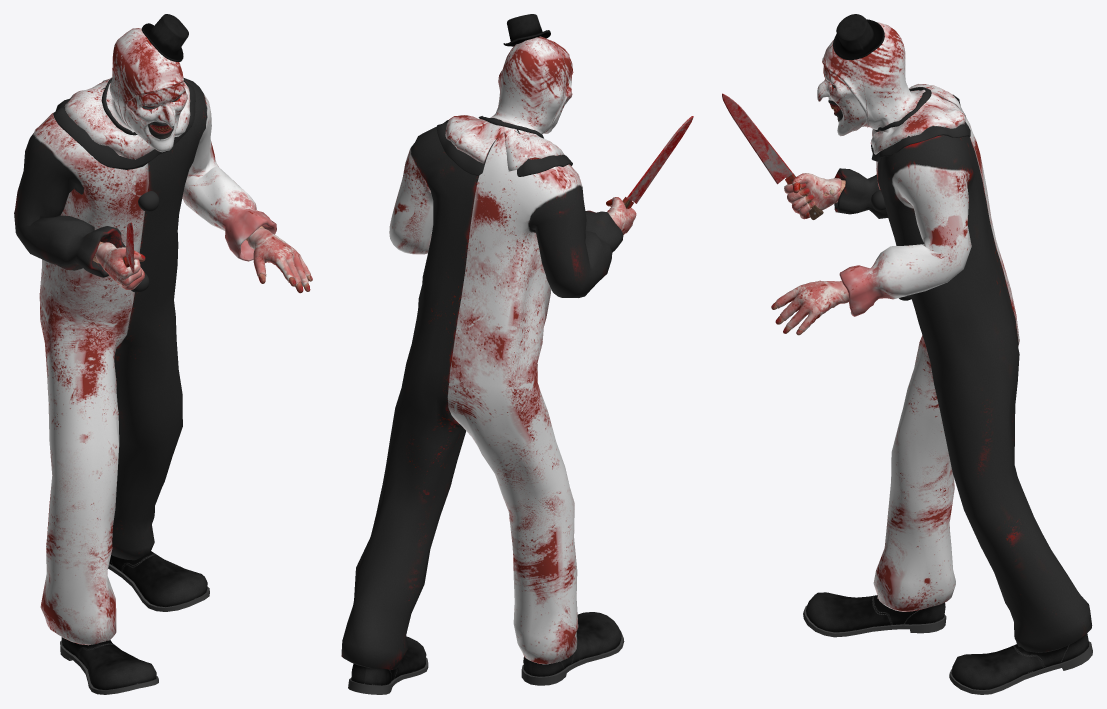
Rendered from Art.glb.
The picture shows the model from 3 angles, left to right: view 1: azimuth 30°, elevation 25°; view 2: azimuth 150°, elevation 25°; view 3: azimuth 270°, elevation 25°; orthographic projection. The views are drawn at different scales.
Visible parts, largest first — view 1: body_retopo, boot_lp, hood_retopo, glove_retopo, mask_retopo, hood2_retopo, hat_retopo; view 2: body_retopo, hood_retopo, boot_lp, hood2_retopo, knife, hat_retopo, glove_retopo; view 3: body_retopo, boot_lp, hood_retopo, glove_retopo, knife, hat_retopo, mask_retopo, hood2_retopo.
Boxes of the visible parts, <box> form: body_retopo: <box>14,77,276,645</box>; boot_lp: <box>60,551,209,694</box>; hood_retopo: <box>64,28,190,159</box>; glove_retopo: <box>95,228,310,290</box>; mask_retopo: <box>125,82,187,152</box>; hood2_retopo: <box>53,80,195,169</box>; hat_retopo: <box>141,14,188,61</box>; body_retopo: <box>341,127,623,670</box>; hood_retopo: <box>445,37,573,171</box>; boot_lp: <box>348,612,624,694</box>; hood2_retopo: <box>436,120,572,176</box>; knife: <box>622,116,693,208</box>; hat_retopo: <box>503,14,550,46</box>; glove_retopo: <box>607,197,636,234</box>; body_retopo: <box>834,108,1092,652</box>; boot_lp: <box>803,592,1092,694</box>; hood_retopo: <box>822,22,965,154</box>; glove_retopo: <box>776,173,849,332</box>; knife: <box>722,93,823,219</box>; hat_retopo: <box>833,14,884,60</box>; mask_retopo: <box>817,65,866,136</box>; hood2_retopo: <box>871,94,970,161</box>.
Bounding box in the file's own units: 0.6651 × 1.85 × 0.9798.
Materials: 4 (3 with a texture image).
